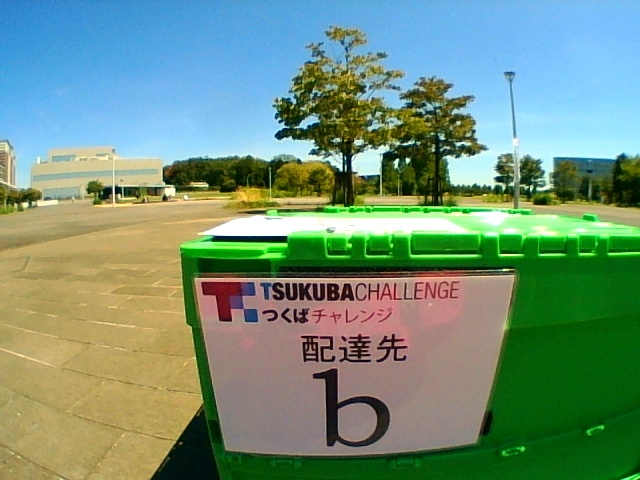green_box: (180, 206, 640, 480)
tag_b: (226, 279, 476, 446)
